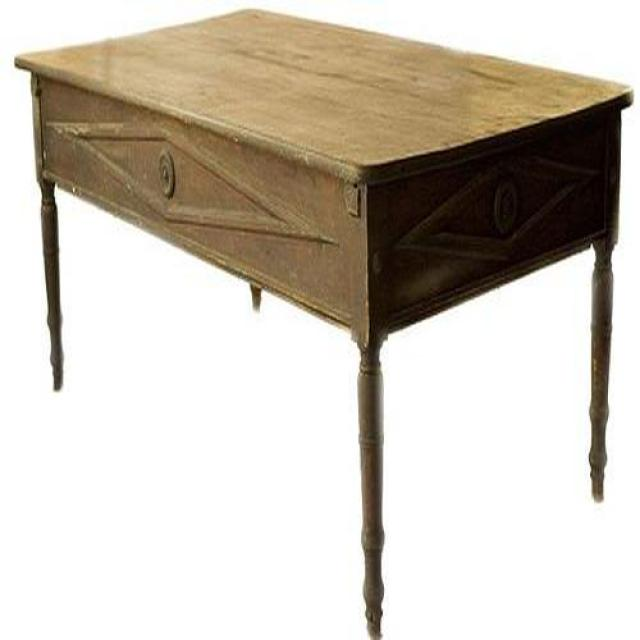table: (12, 8, 634, 640)
